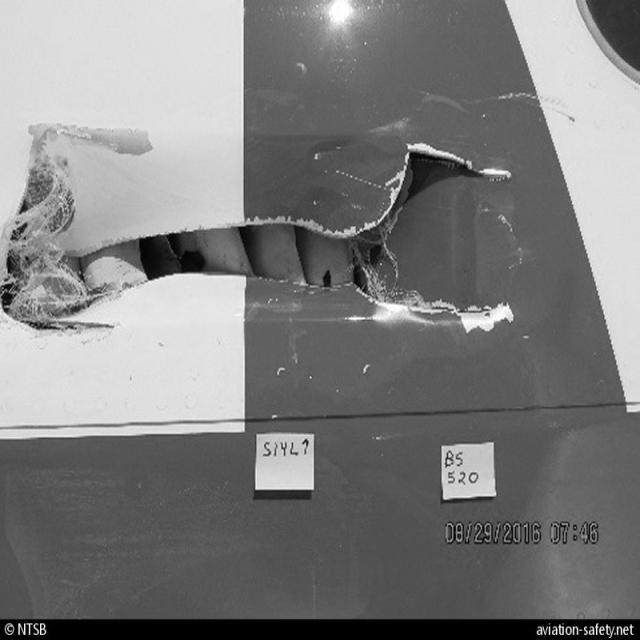crack: (394, 288, 515, 345)
